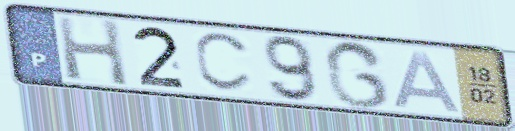2: (131, 25, 188, 91)
9: (260, 33, 321, 104)
A: (389, 48, 465, 115)
C: (192, 31, 255, 95)
G: (322, 39, 393, 111)
H: (53, 13, 133, 89)
